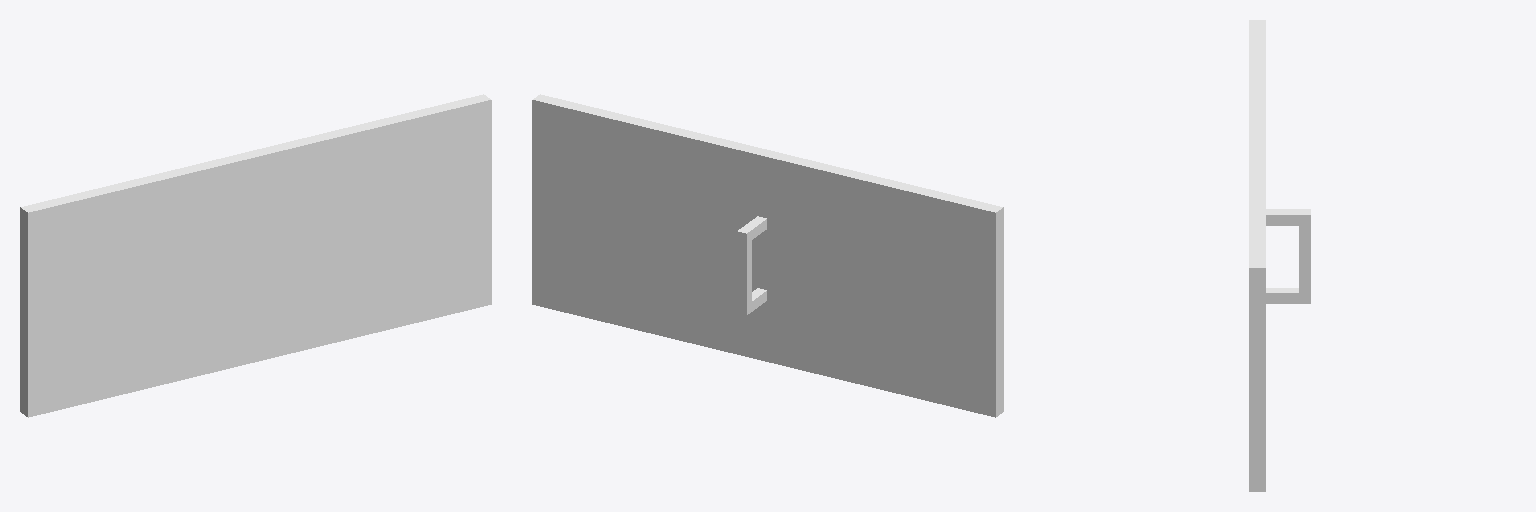
The robot description file, URDF, robot "sliding_door":
<?xml version="1.0" ?>
<robot name="sliding_door">
 <link name="baseLink">
   <contact>
     <lateral_friction value="0.5"/>
   </contact>
   <inertial>
     <origin rpy="0 0 0" xyz="0.355033 0.41094 0.89008"/>
      <mass value="1.0"/>
      <inertia ixx="0.000037" ixy="-0.000000" ixz="0.000000" iyy="0.000239" iyz="-0.000000" izz="0.000202"/>
   </inertial>
   <visual>
     <origin rpy="0 0 0" xyz="0 0 0"/>
     <geometry>
       <mesh filename="sliding_door.obj" scale="1.0 1.0 1.0"/>
     </geometry>
      <material name="white">
       <color rgba="1 1 1 1"/>
     </material>
   </visual>
   <collision>
     <origin rpy="0 0 0" xyz="0 0 0"/>
     <geometry>
       <mesh filename="sliding_door_vhacd2.obj" scale="1.0 1.0 1.0"/>
     </geometry>
   </collision>
 </link>
</robot>

--- Render facts (derived) ---
3 views of the same robot in one strip: view 1: azimuth 30°, elevation 25°; view 2: azimuth 150°, elevation 25°; view 3: azimuth 270°, elevation 25° (orthographic).
Model sliding_door with 1 links and 0 joints (none), rooted at baseLink, posed all joints at 0.
Links seen in each view (by area): view 1: baseLink; view 2: baseLink; view 3: baseLink.
Boxes of the visible links, left/top/right/bottom form: baseLink: left=20, top=94, right=491, bottom=417; baseLink: left=532, top=94, right=1003, bottom=417; baseLink: left=1249, top=20, right=1310, bottom=491.
Bounding box of the posed robot: 0.71 × 0.075 × 0.3 m (x, y, z).
Meshes: 1 distinct files referenced, 1 mesh visuals loaded (1 OBJ).